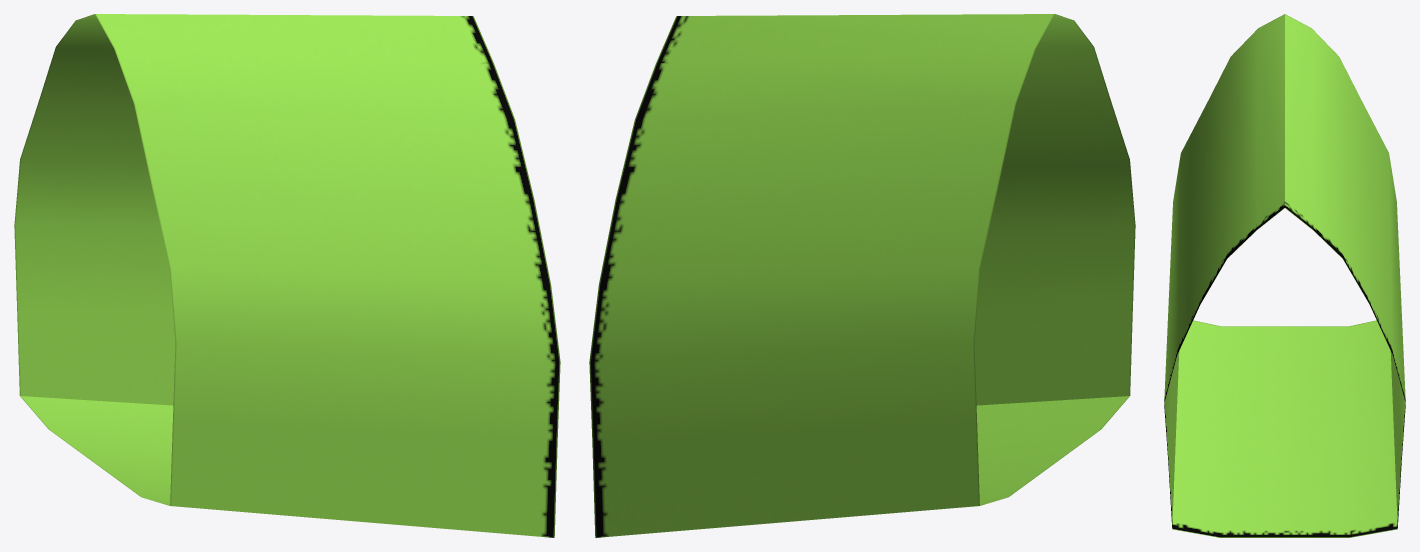
File: WindowGlow.dae
3 renders of one model, left to right at view 1: azimuth 30°, elevation 25°; view 2: azimuth 150°, elevation 25°; view 3: azimuth 270°, elevation 25°, orthographic. The views are drawn at different scales.
Visible parts, largest first — view 1: WindowGlow; view 2: WindowGlow; view 3: WindowGlow.
Boxes of the visible parts, <box> form: WindowGlow: <box>14,14,560,537</box>; WindowGlow: <box>589,14,1135,537</box>; WindowGlow: <box>1164,14,1405,537</box>.
Size of the model in its own units: 3.84 by 3.05 by 5.51.
Materials: 1 (1 with a texture image).
